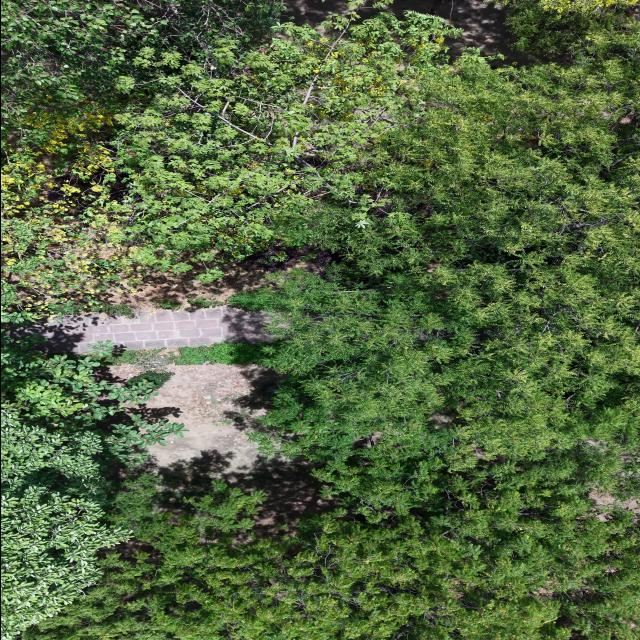DRY_AREA: (129, 363, 334, 535), (132, 363, 335, 535), (137, 363, 333, 534), (10, 247, 331, 351), (12, 247, 331, 351), (145, 363, 333, 534), (145, 363, 331, 533), (145, 363, 331, 532), (146, 363, 323, 526), (286, 0, 533, 65), (100, 246, 332, 313), (286, 0, 531, 62), (107, 245, 332, 307), (146, 364, 275, 471), (11, 306, 272, 351), (11, 307, 268, 351), (14, 307, 268, 350), (106, 253, 285, 307), (399, 0, 531, 61), (588, 487, 639, 522), (588, 488, 639, 521)
PATHWAYS: (12, 306, 272, 351)
VEGETATION_TREE: (1, 0, 639, 639), (233, 3, 639, 506), (1, 0, 449, 317), (3, 0, 448, 316), (24, 464, 638, 639), (115, 13, 448, 270), (1, 336, 184, 639)
